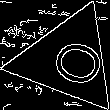O_W: (34, 30, 101, 89)
